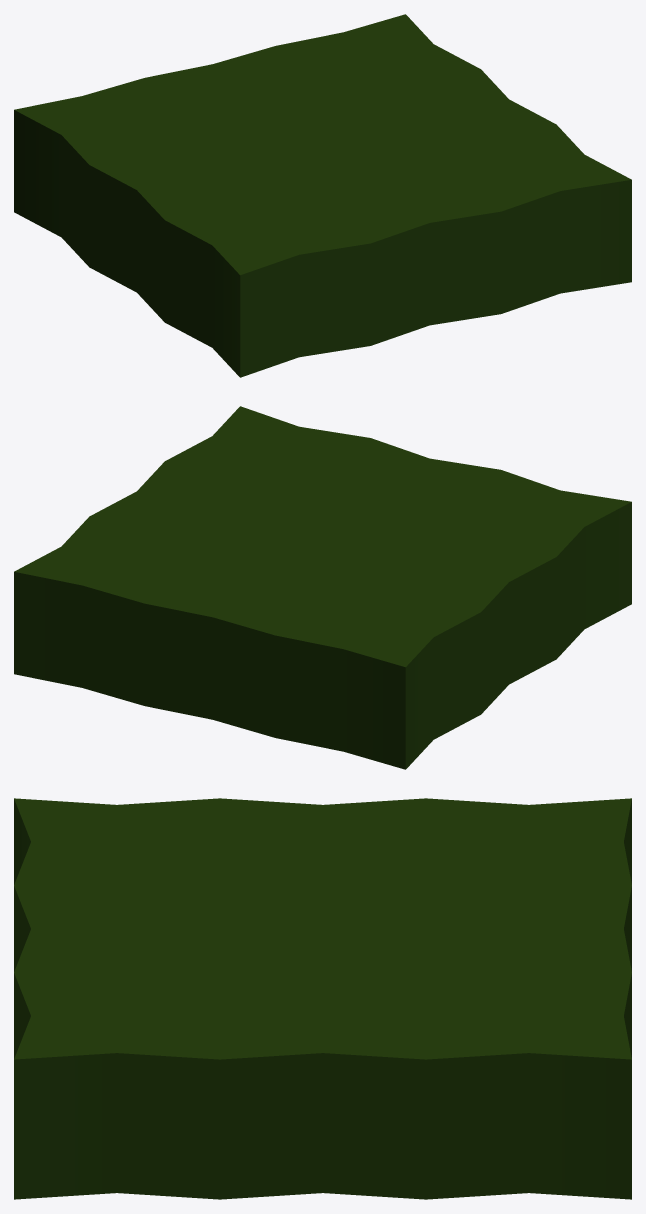
The model's file is jaggeredTile-01a_col.fbx.
3 renders of one model, top to bottom at view 1: azimuth 30°, elevation 25°; view 2: azimuth 150°, elevation 25°; view 3: azimuth 270°, elevation 25°, orthographic. The views are drawn at different scales.
Parts seen in each view (by area): view 1: jaggeredTile-01a.col; view 2: jaggeredTile-01a.col; view 3: jaggeredTile-01a.col.
Boxes of the visible parts, bbox=[...] form: jaggeredTile-01a.col: bbox=[14, 14, 631, 377]; jaggeredTile-01a.col: bbox=[14, 406, 631, 769]; jaggeredTile-01a.col: bbox=[14, 798, 631, 1199].
Size of the model in its own units: 2 by 0.5 by 2.
Materials: 1 (1 with a texture image).
